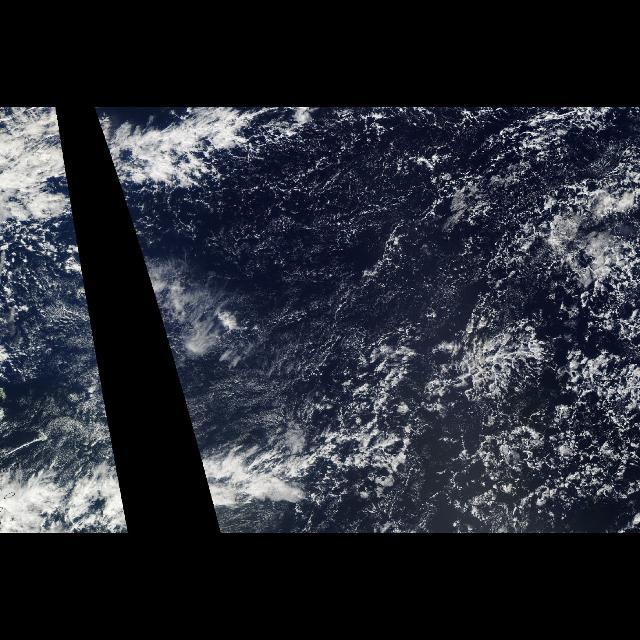Gravel: (442, 110, 630, 524)
Sugar: (146, 166, 380, 454), (36, 272, 114, 454)
